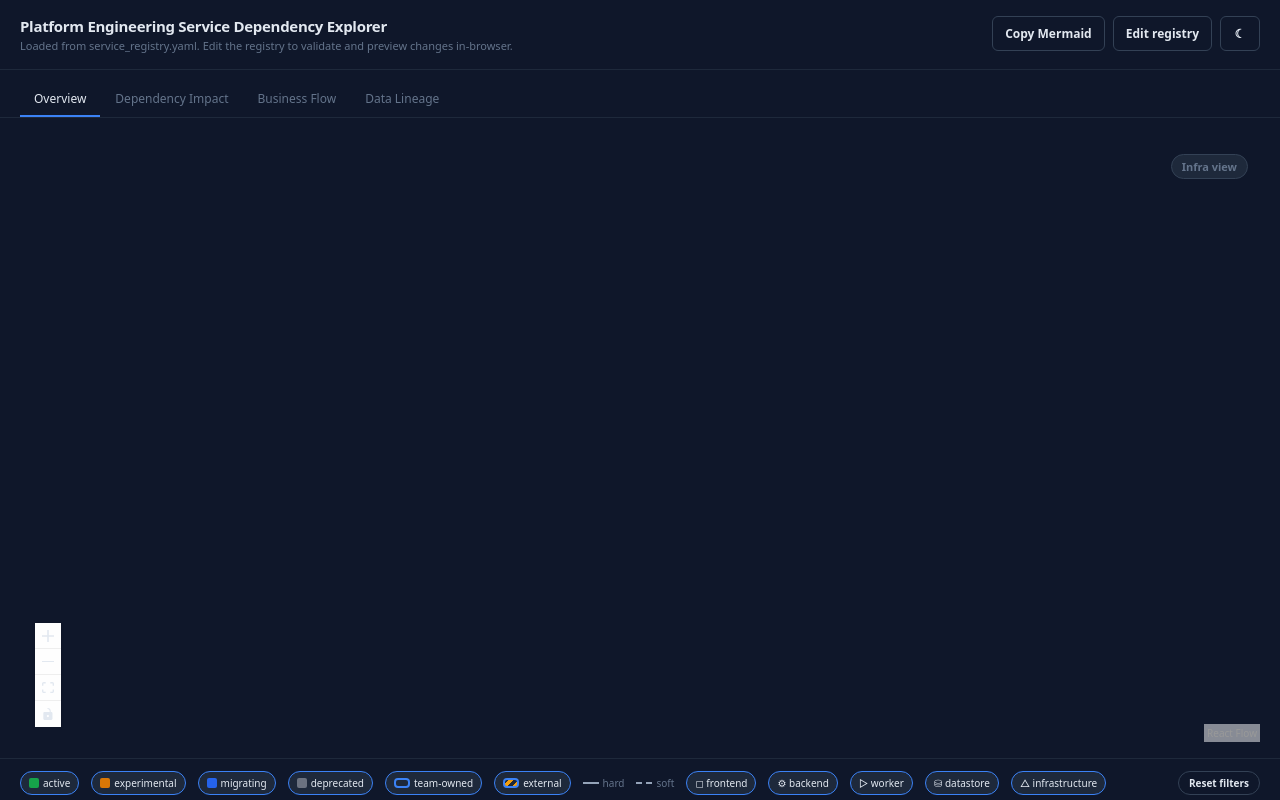
CatalogView › expands data flow details and renders pipeline stages
The image size is (1280, 800).
Click the button "Data Lineage": x=402, y=100 [351,82,453,117]
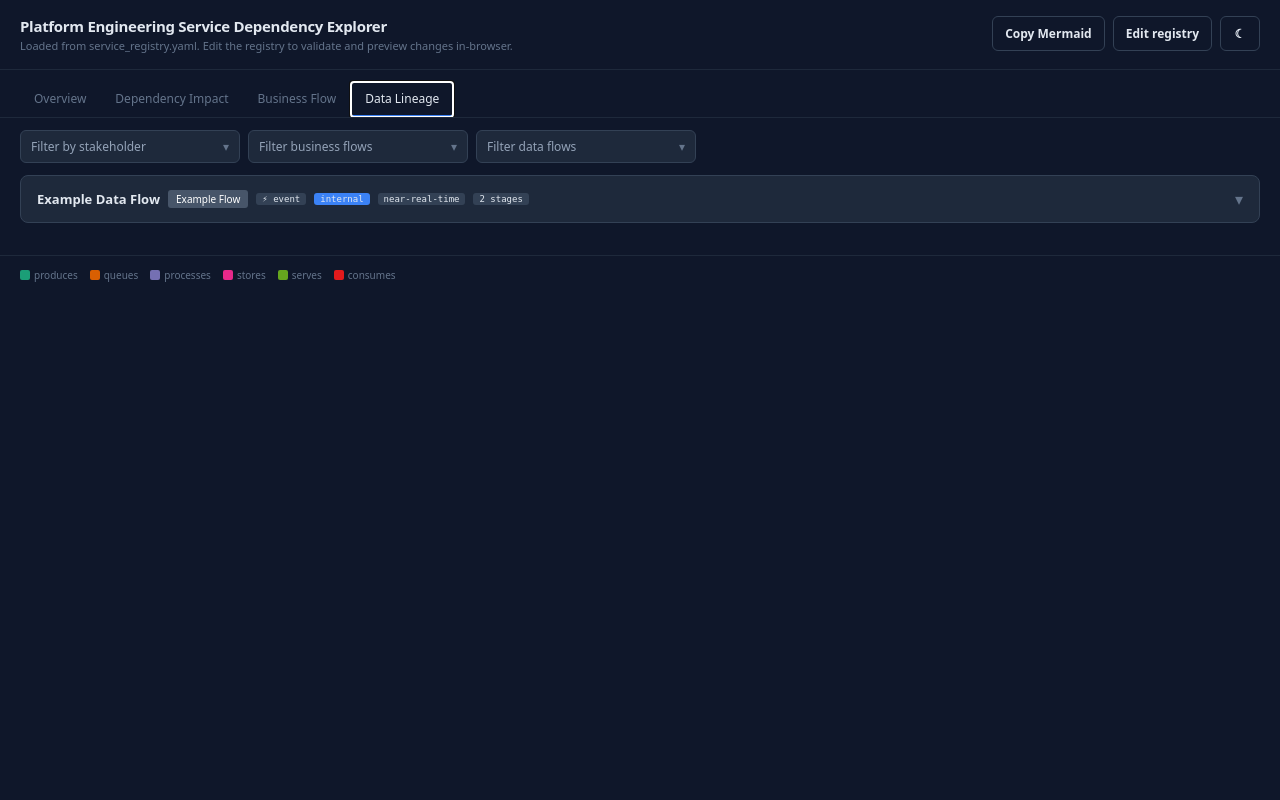
Click the text "Example Data Flow": x=98, y=199 [37,190,160,208]
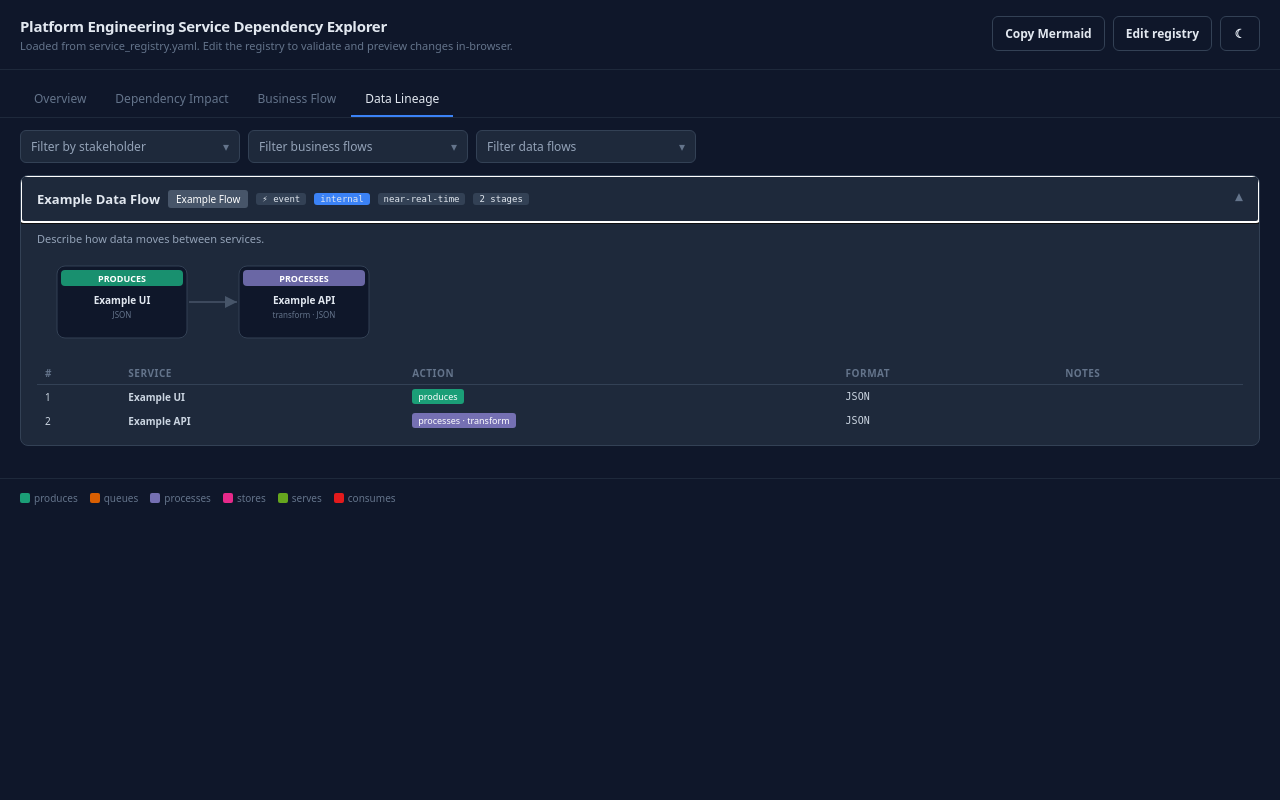
Result: the text "2 stages" is shown at [474,193,529,205]
Result: the text "Describe how data moves between services." is shown at [37,231,264,246]
Result: the column heading "Action" is shown at [404,362,838,384]
